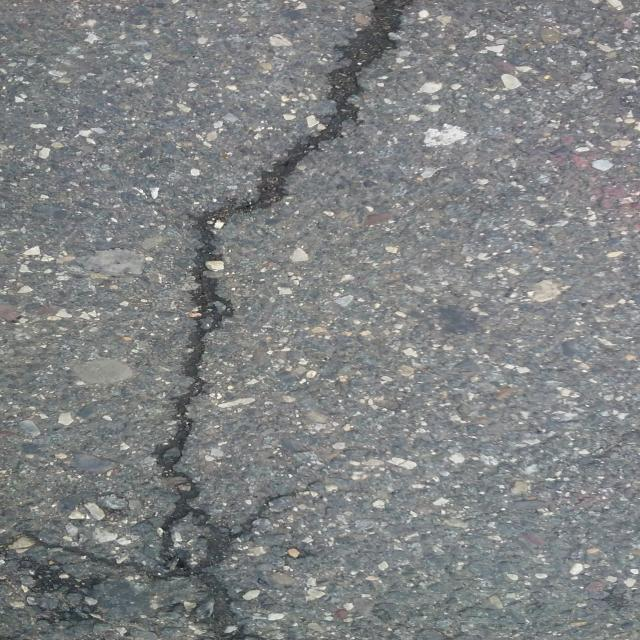Crack: (0, 0, 416, 640)
